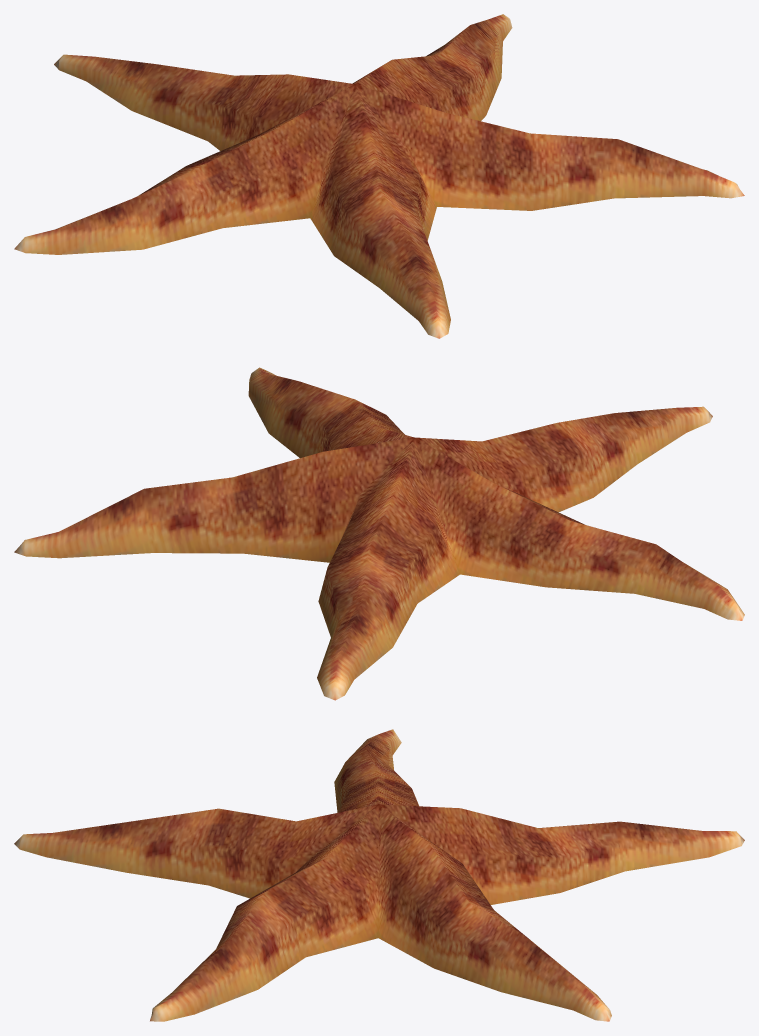
File: environment_common_seahaixing_001_a.FBX
3 renders of one model, top to bottom at view 1: azimuth 30°, elevation 25°; view 2: azimuth 150°, elevation 25°; view 3: azimuth 270°, elevation 25°, orthographic. The views are drawn at different scales.
Visible parts, largest first — view 1: environment_common_seahaixing_001_a; view 2: environment_common_seahaixing_001_a; view 3: environment_common_seahaixing_001_a.
Boxes of the visible parts, <box> form: environment_common_seahaixing_001_a: <box>14,14,744,338</box>; environment_common_seahaixing_001_a: <box>14,367,744,700</box>; environment_common_seahaixing_001_a: <box>14,729,744,1021</box>.
Size of the model in its own units: 315 by 45.71 by 342.
